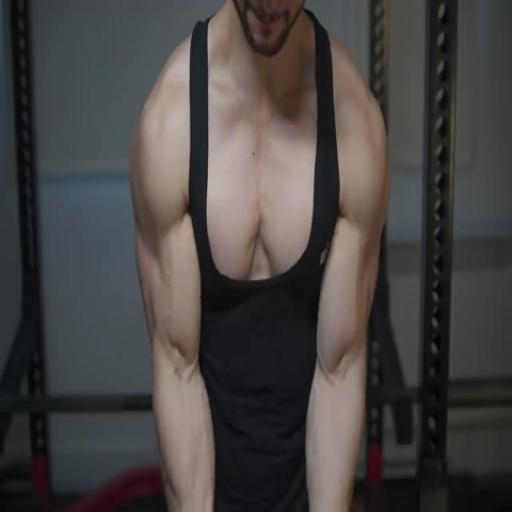exercise: (128, 0, 394, 511)
